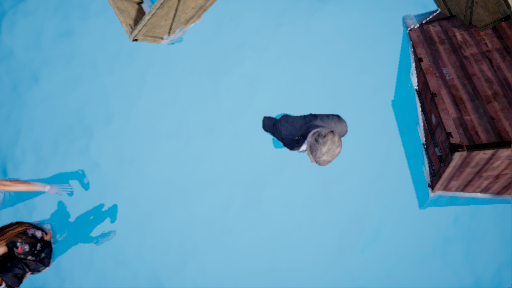person: (3, 212, 111, 271), (259, 107, 352, 170)
